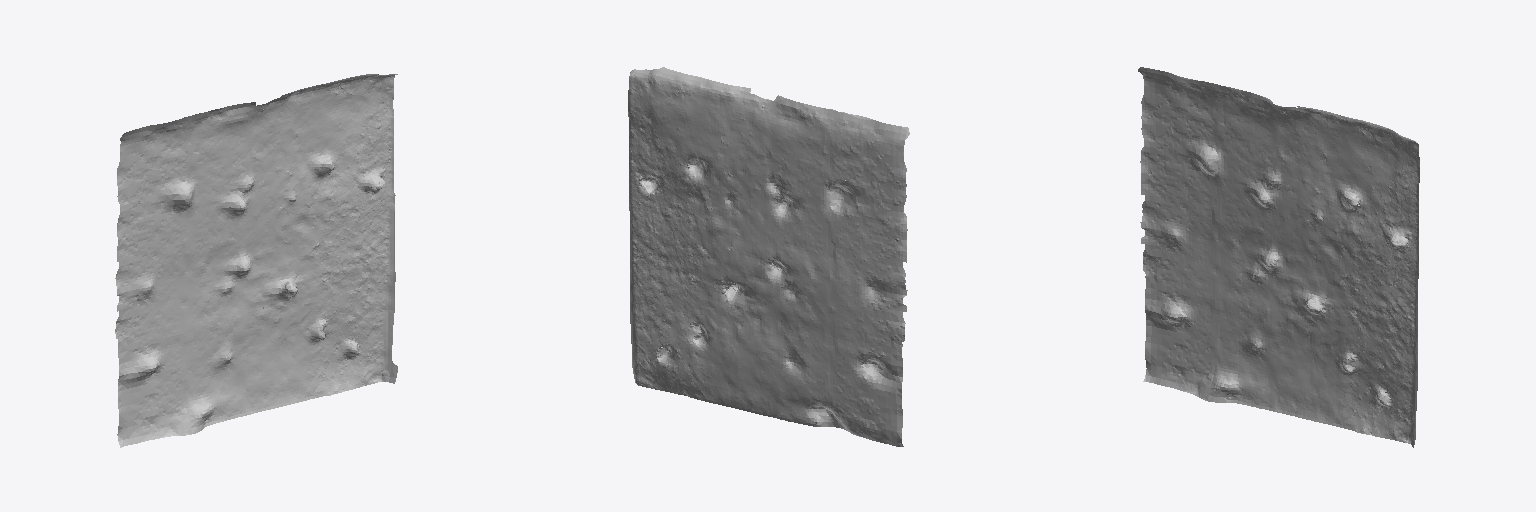
Rendered from terrain_and_rocks.obj.
3 views of the same model, side by side, from view 1: azimuth 30°, elevation 25°; view 2: azimuth 150°, elevation 25°; view 3: azimuth 330°, elevation 25° (orthographic).
Parts seen in each view (by area): view 1: terrain_and_rocks; view 2: terrain_and_rocks; view 3: terrain_and_rocks.
Part boxes in pixels (x1,y1,x2,y2): terrain_and_rocks: (115,74,397,447); terrain_and_rocks: (628,67,909,446); terrain_and_rocks: (1138,67,1419,447).
Bounding box in the file's own units: 3.64 × 3.97 × 0.2134.